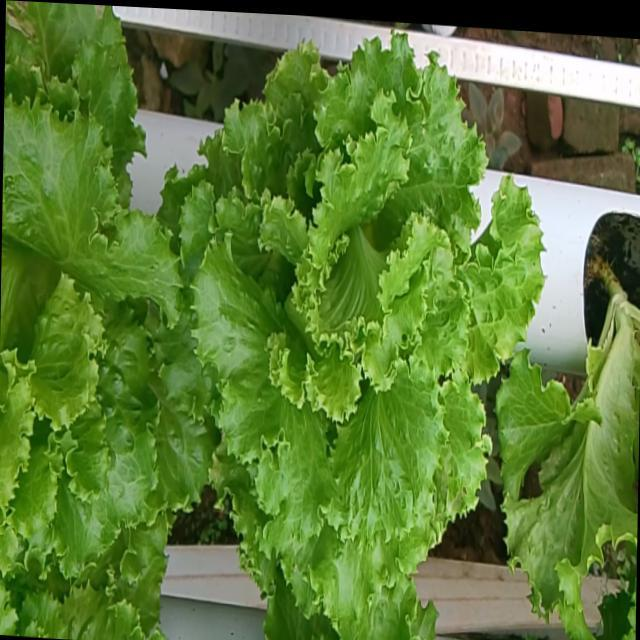Mature: (169, 21, 532, 604), (0, 79, 203, 563)
